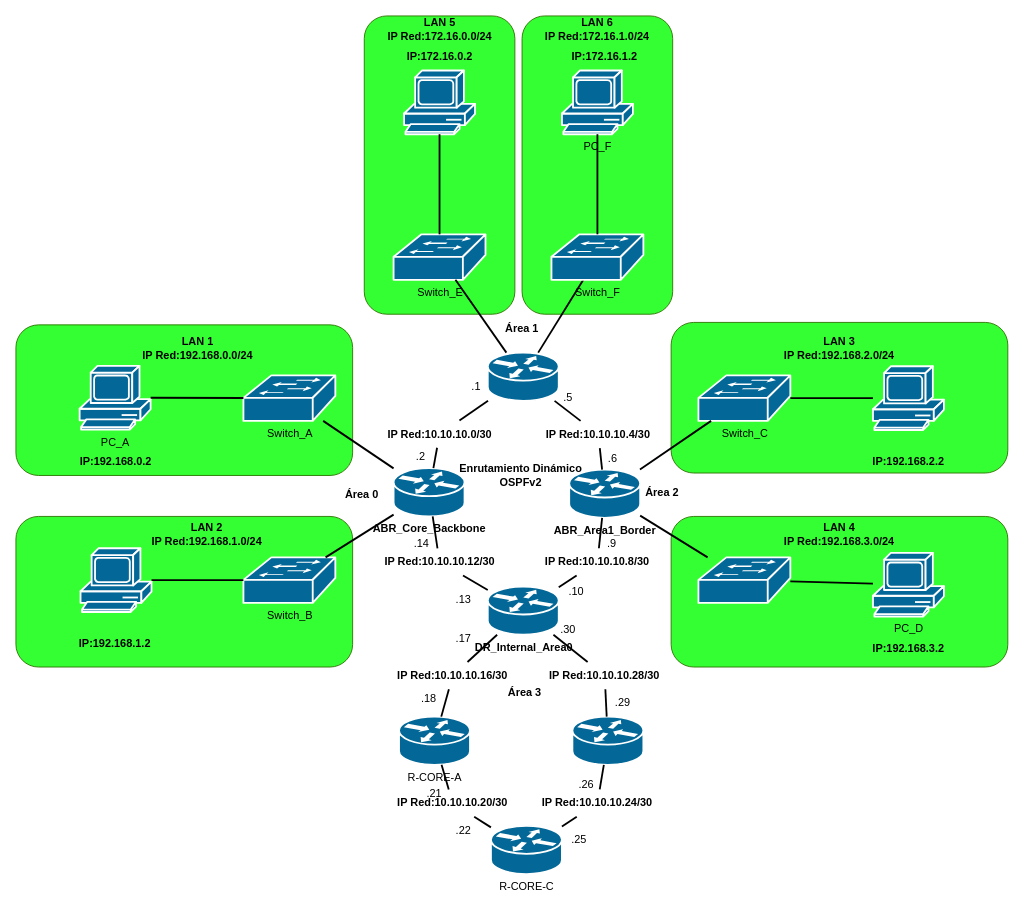
This 1024x909 diagram has some shape labels left out. Here are the shapes that lost their labels. From the top down, the centre of each, then its label:
point (439, 102): PC_E
point (522, 376): ABR_Area2_Border
point (908, 397): PC_C
point (115, 579): PC_B
point (744, 579): Switch_D
point (607, 740): R-CORE-B
